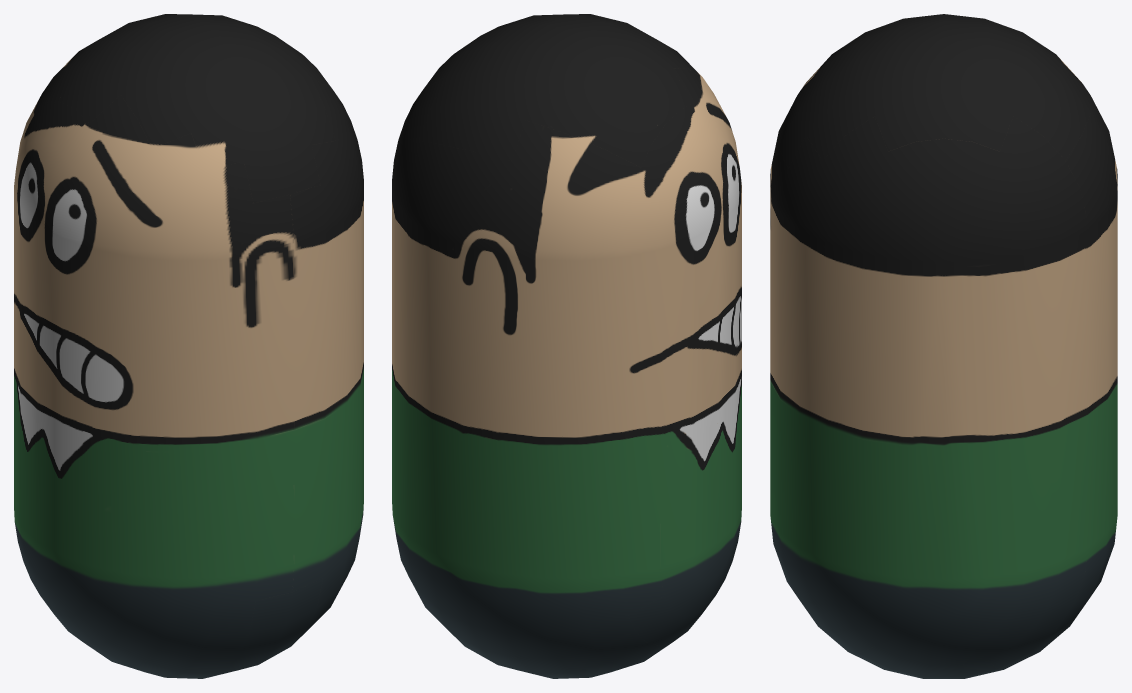
The picture shows the model from 3 angles, left to right: view 1: azimuth 30°, elevation 25°; view 2: azimuth 150°, elevation 25°; view 3: azimuth 270°, elevation 25°; orthographic projection.
Visible parts, largest first — view 1: Model 7; view 2: Model 7; view 3: Model 7.
Boxes of the visible parts, x1=… form: Model 7: x1=14, y1=14, x2=363, y2=678; Model 7: x1=392, y1=14, x2=741, y2=678; Model 7: x1=770, y1=14, x2=1117, y2=678.
Size of the model in its own units: 200 by 398 by 199.
1 material, 1 textured.
